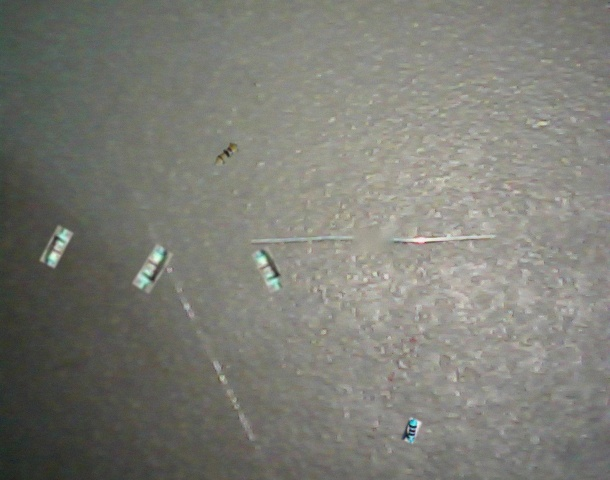resistor: (133, 244, 173, 293), (252, 246, 287, 293), (40, 225, 73, 268), (215, 143, 238, 166), (402, 418, 422, 443)
